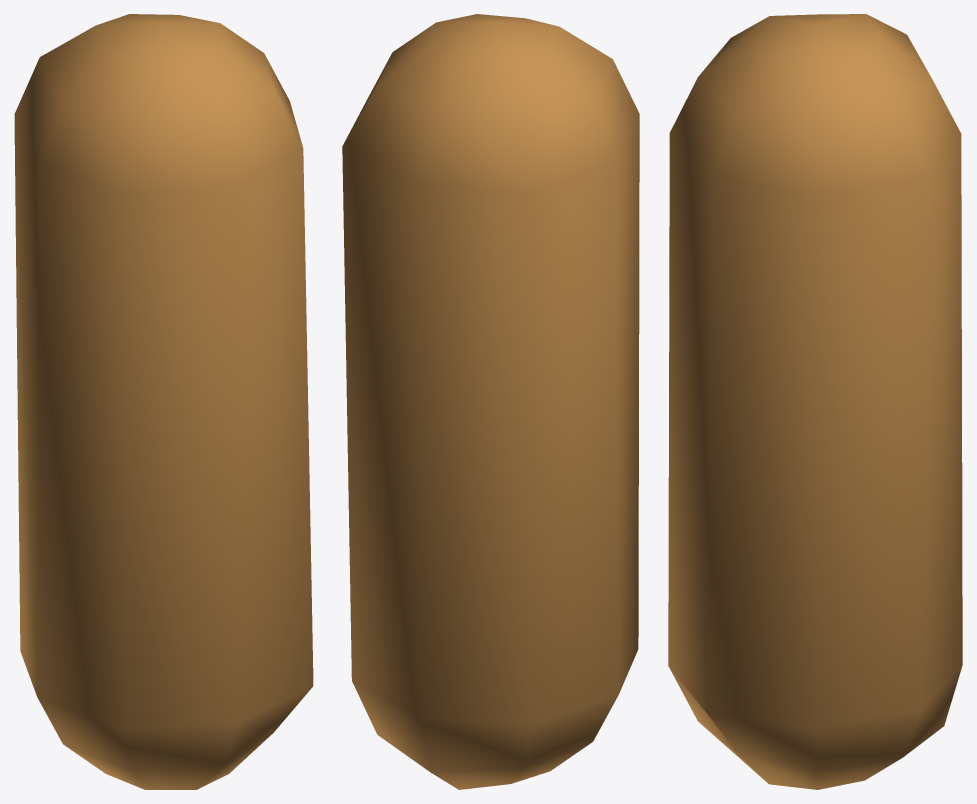
File: long_wavy.glb
3 views of the same model, side by side, from view 1: azimuth 30°, elevation 25°; view 2: azimuth 150°, elevation 25°; view 3: azimuth 270°, elevation 25° (orthographic).
Visible parts, largest first — view 1: world; view 2: world; view 3: world.
Part boxes in pixels (bbox=[...]): world: bbox=[14, 14, 313, 789]; world: bbox=[342, 14, 639, 789]; world: bbox=[668, 14, 962, 789].
Size of the model in its own units: 19.04 by 53.34 by 19.17.
